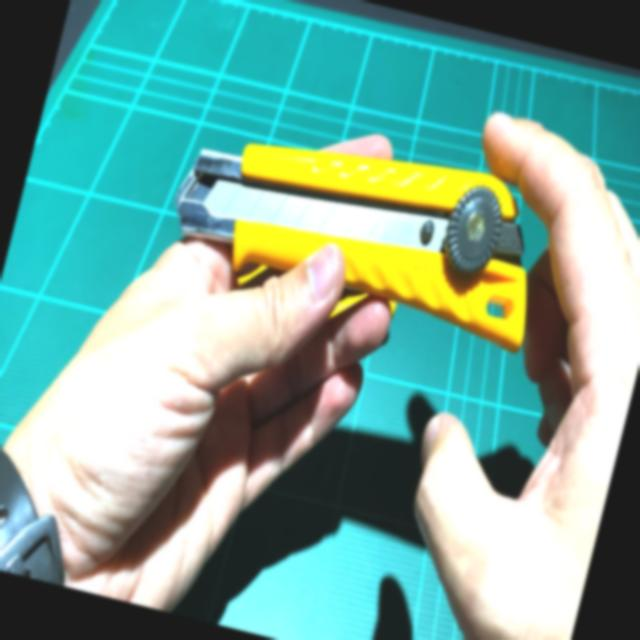cutter: (84, 1, 640, 552)
